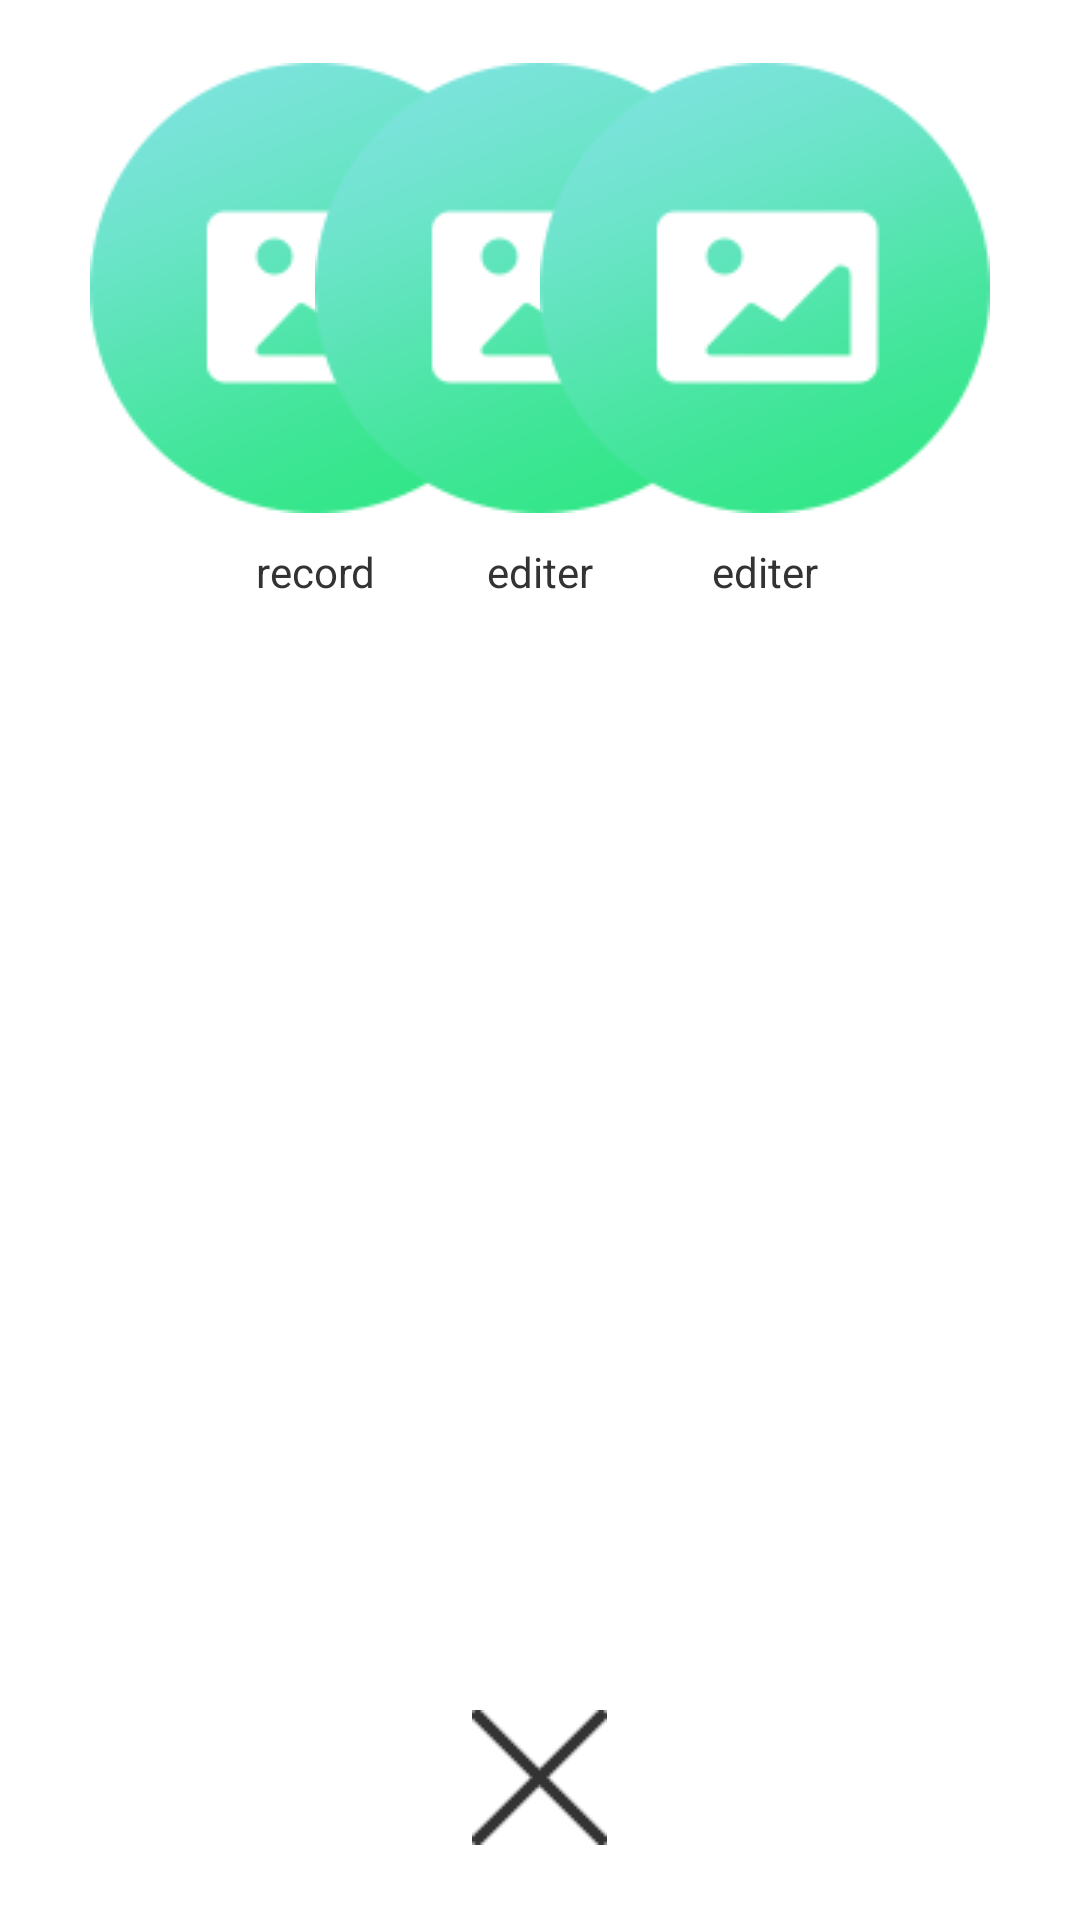

Icon bounding boxes for this 1080w x 1920h phone screenshot, format Rect(x1, y1, x2, y2):
close record: Rect(472, 1710, 607, 1845)
